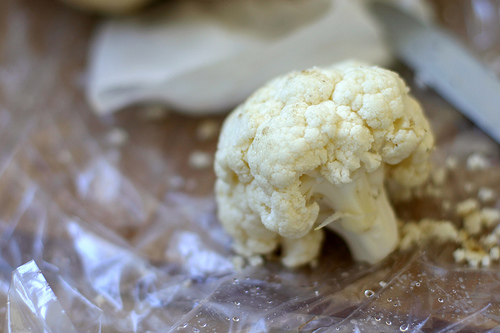cauliflower: (213, 58, 434, 268)
